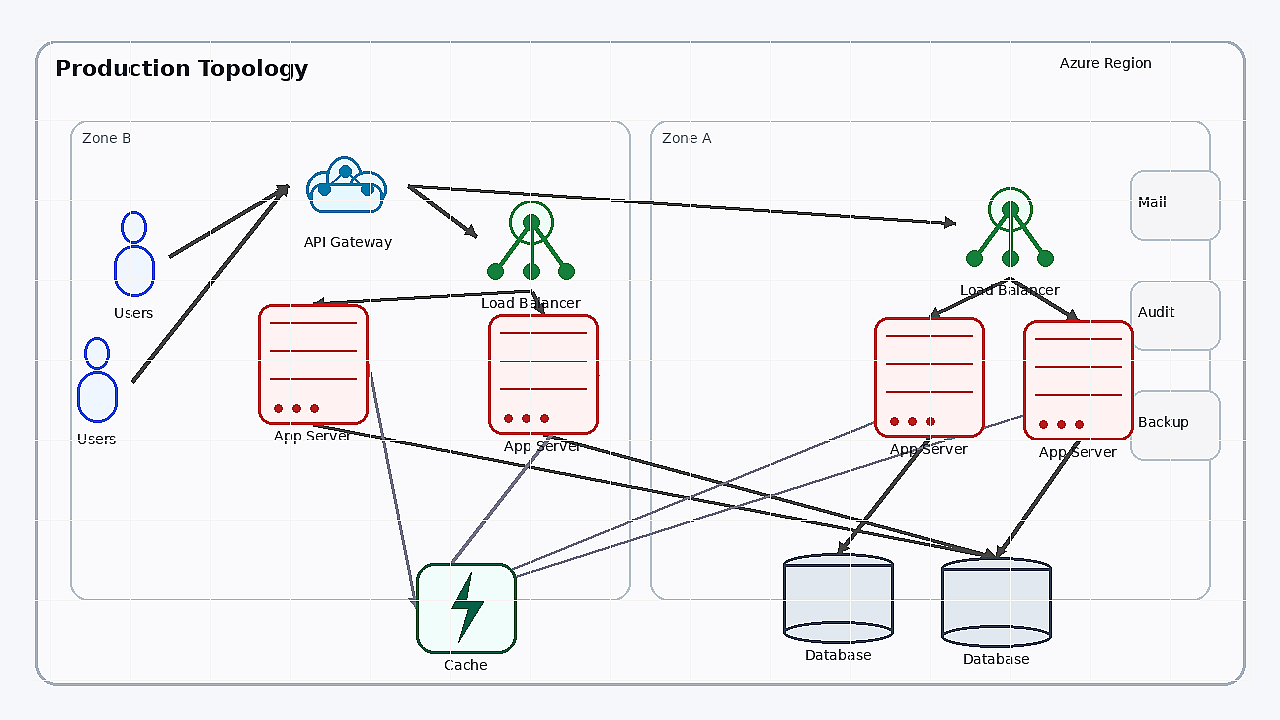API Gateway: (288, 140, 408, 230)
Application Server: (258, 304, 368, 424), (488, 314, 598, 434), (874, 317, 984, 437), (1023, 320, 1133, 440)
Cache: (416, 563, 516, 653)
Database: (941, 557, 1051, 647), (783, 553, 893, 643)
Load Balancer: (476, 181, 586, 291), (955, 168, 1065, 278)
User: (99, 211, 169, 301), (62, 337, 132, 427)
